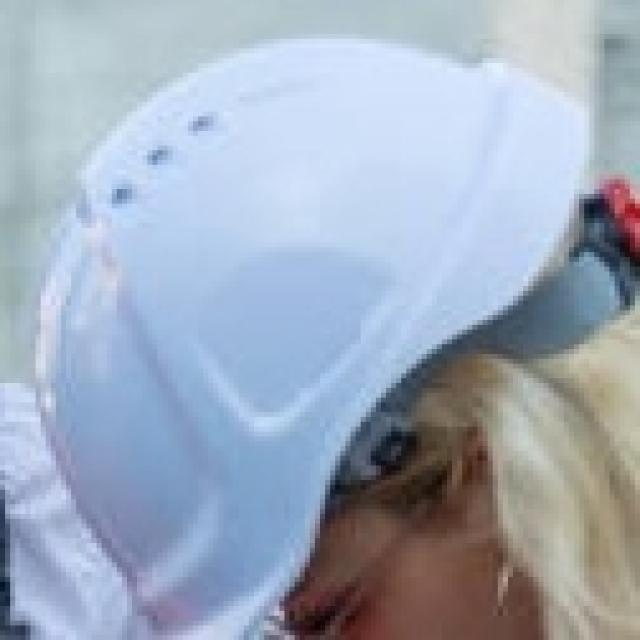helmet_white: (2, 2, 638, 638)
